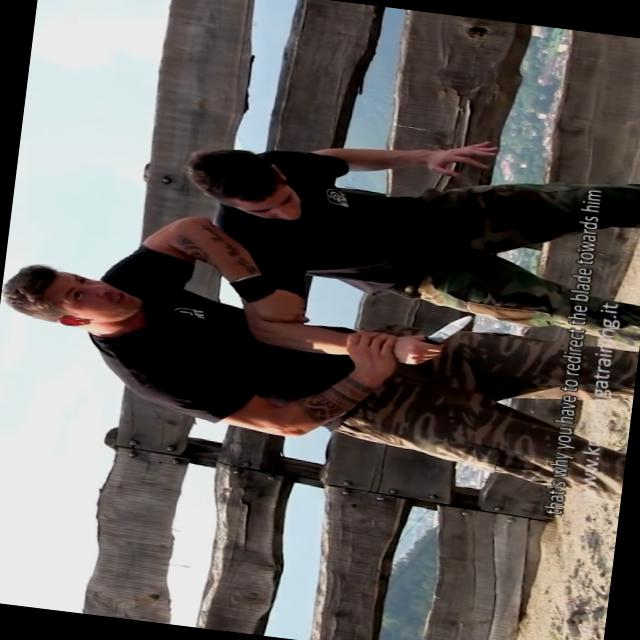knife: (398, 303, 477, 372)
